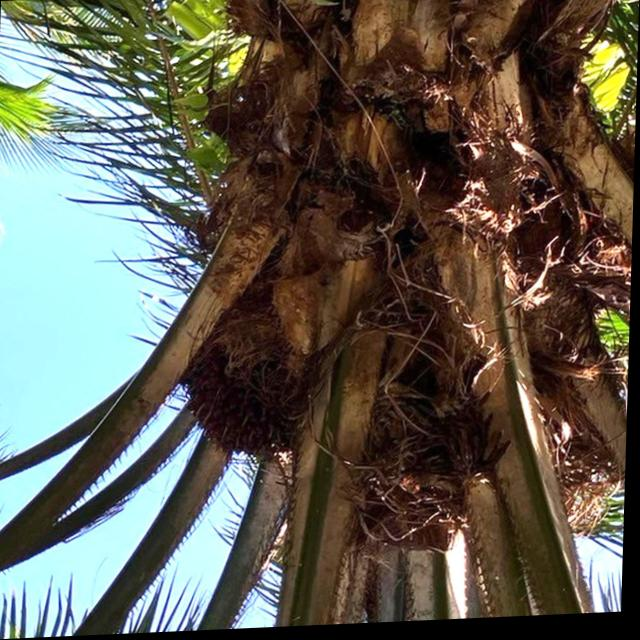ripe: (187, 297, 306, 463)
